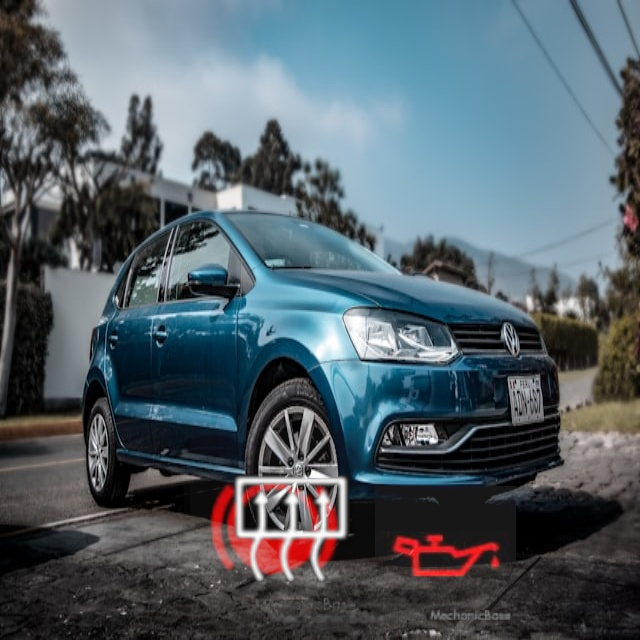symbol: (190, 430, 394, 634), (184, 440, 363, 619), (375, 486, 516, 627)
